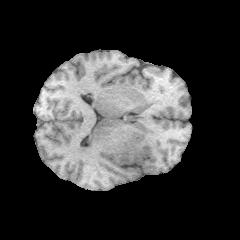glioma: (107, 149, 146, 180)
